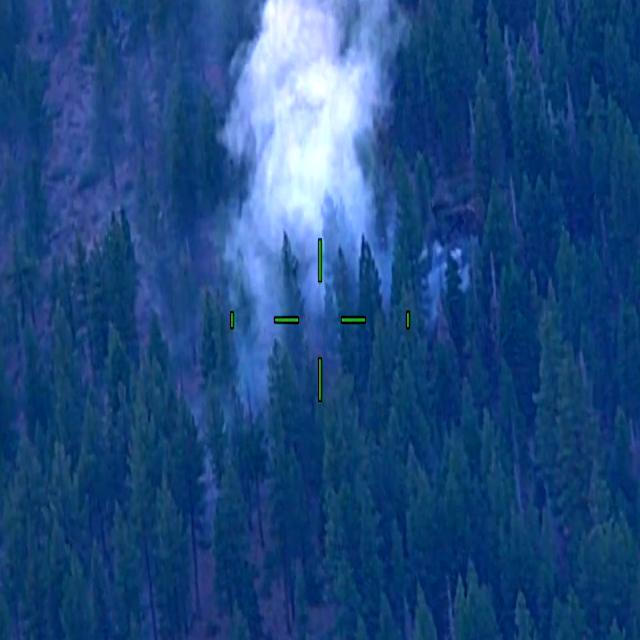smoke: (278, 0, 384, 211)
